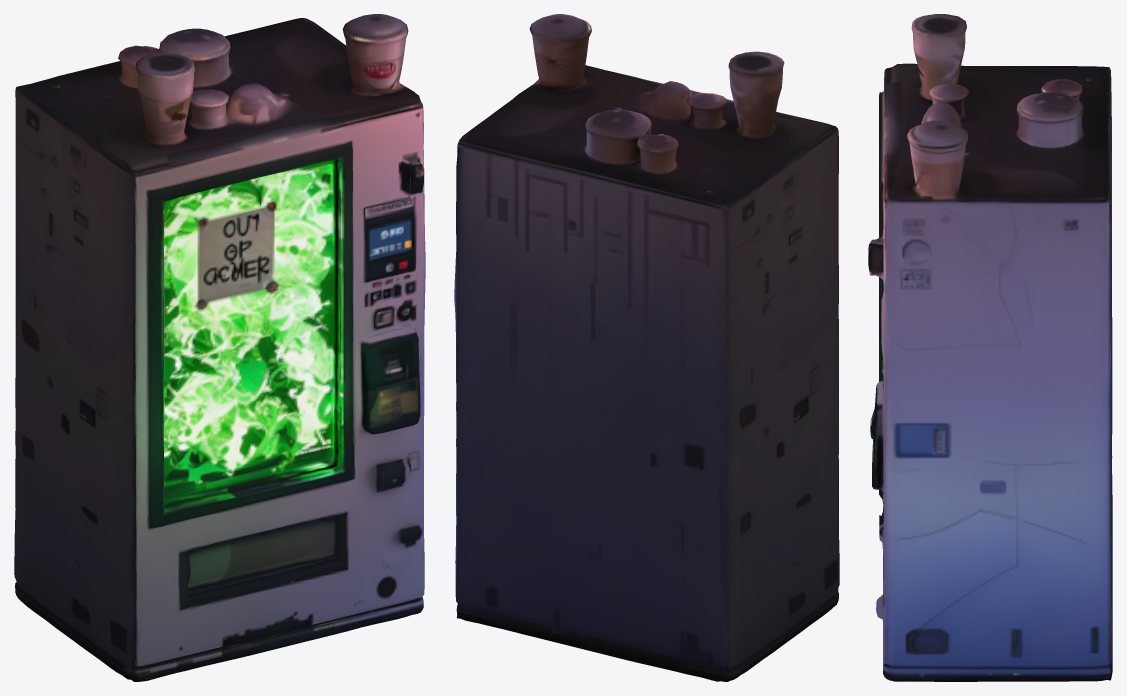
File: base_basic_shaded.fbx
3 renders of one model, left to right at view 1: azimuth 30°, elevation 25°; view 2: azimuth 150°, elevation 25°; view 3: azimuth 270°, elevation 25°, orthographic. The views are drawn at different scales.
Parts seen in each view (by area): view 1: model; view 2: model; view 3: model.
Boxes of the visible parts, x1,y1,x2,y2 form: model: (14,14,425,681); model: (454,14,839,681); model: (868,14,1112,681).
Bounding box in the file's own units: 103 × 191 × 76.83.
